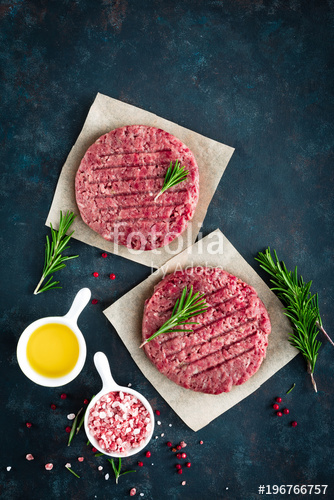ground_beef: (134, 255, 278, 410), (80, 123, 190, 249)
